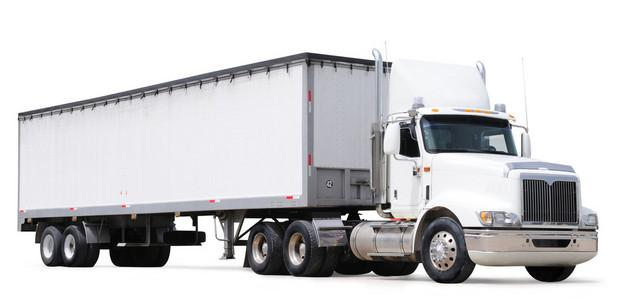卡车: (6, 20, 613, 293)
